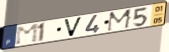1: (37, 21, 48, 43)
4: (84, 14, 102, 35)
5: (132, 6, 150, 28)
M: (106, 8, 134, 33), (15, 22, 40, 46)
V: (63, 16, 84, 38)
